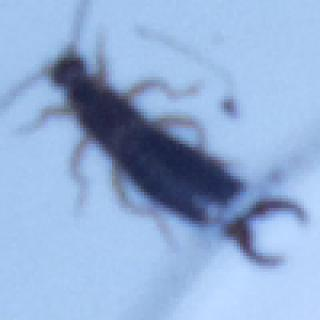earwig: (2, 2, 311, 270)
